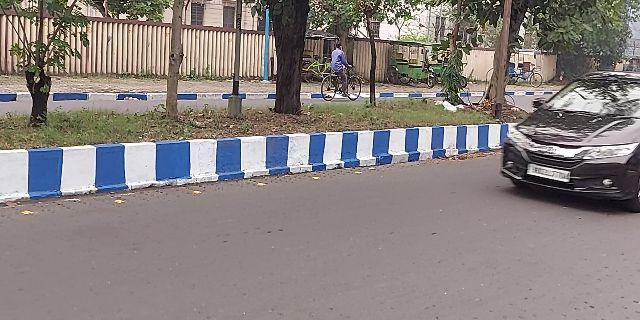Car: (502, 79, 638, 204)
Cycle: (315, 44, 362, 100)
